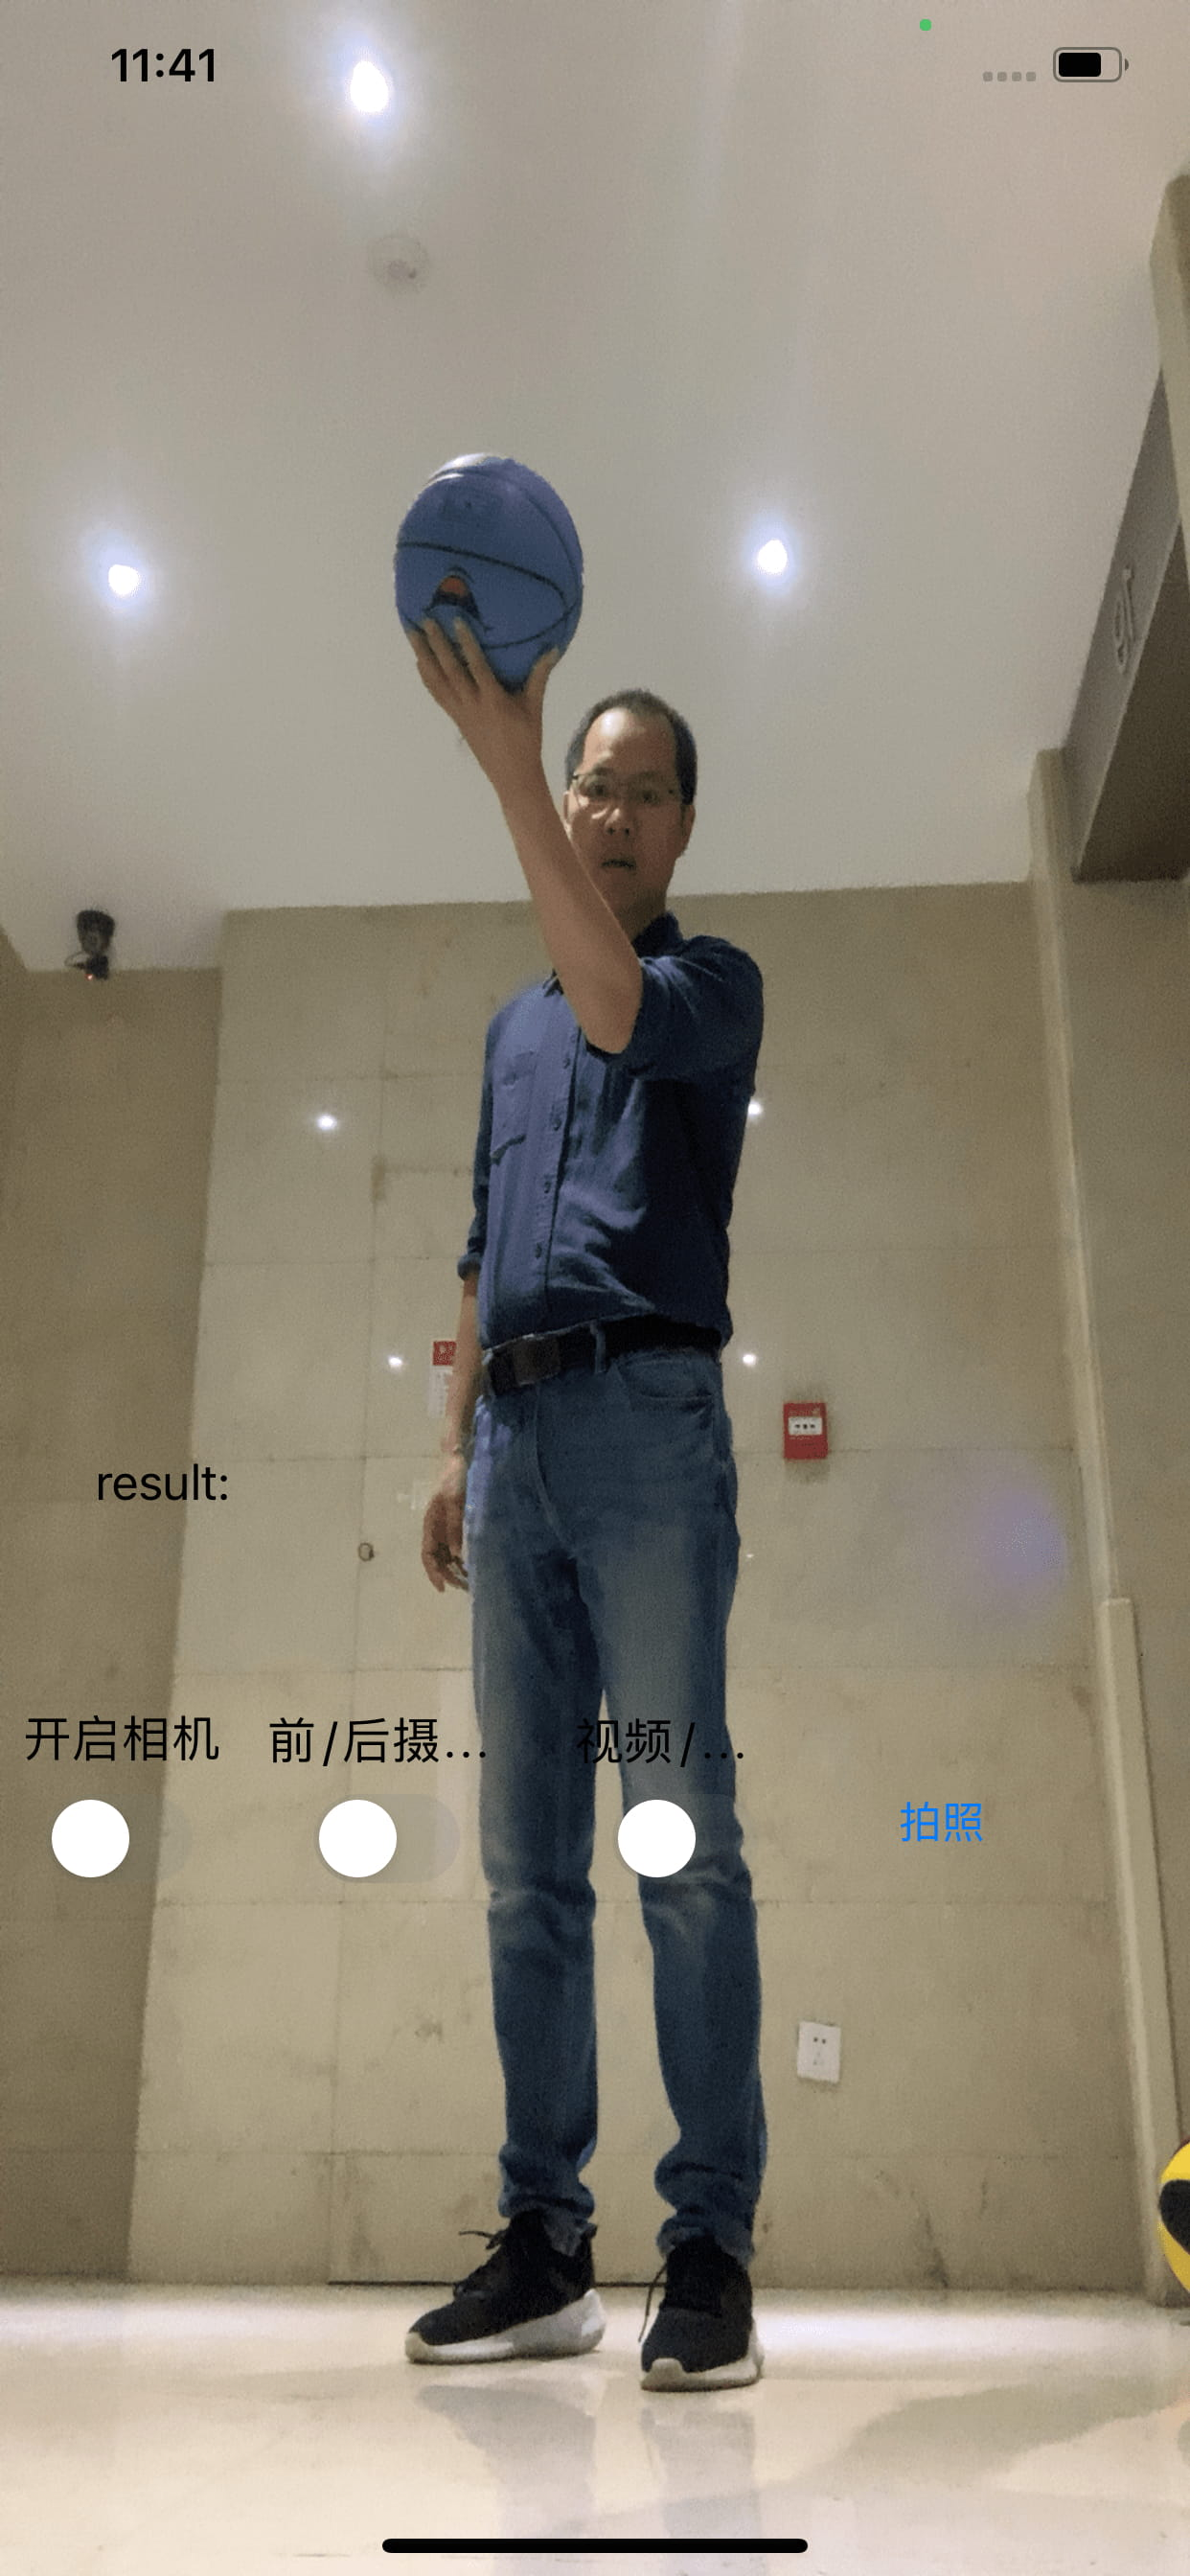ball: (391, 452, 583, 688)
